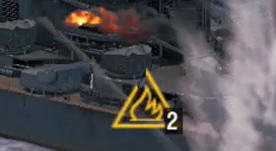2fire: (106, 97, 184, 135)
